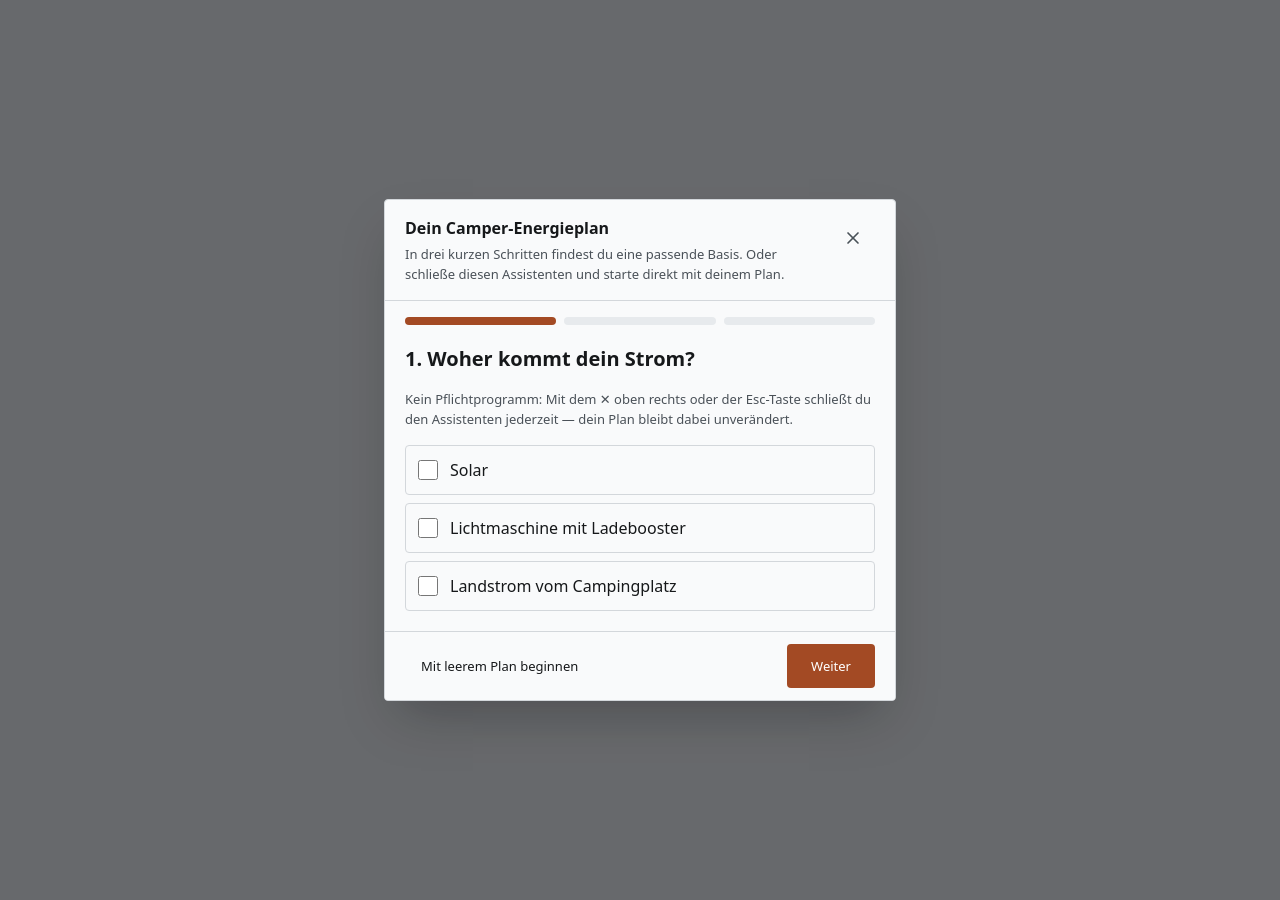
Test: OnboardingWizard (B-06, B-23, Nachtest) › zeigt in Schritt 2, dass nichts vorausgewählt ist
Click the button "Weiter": (831, 666) [787, 644, 875, 688]
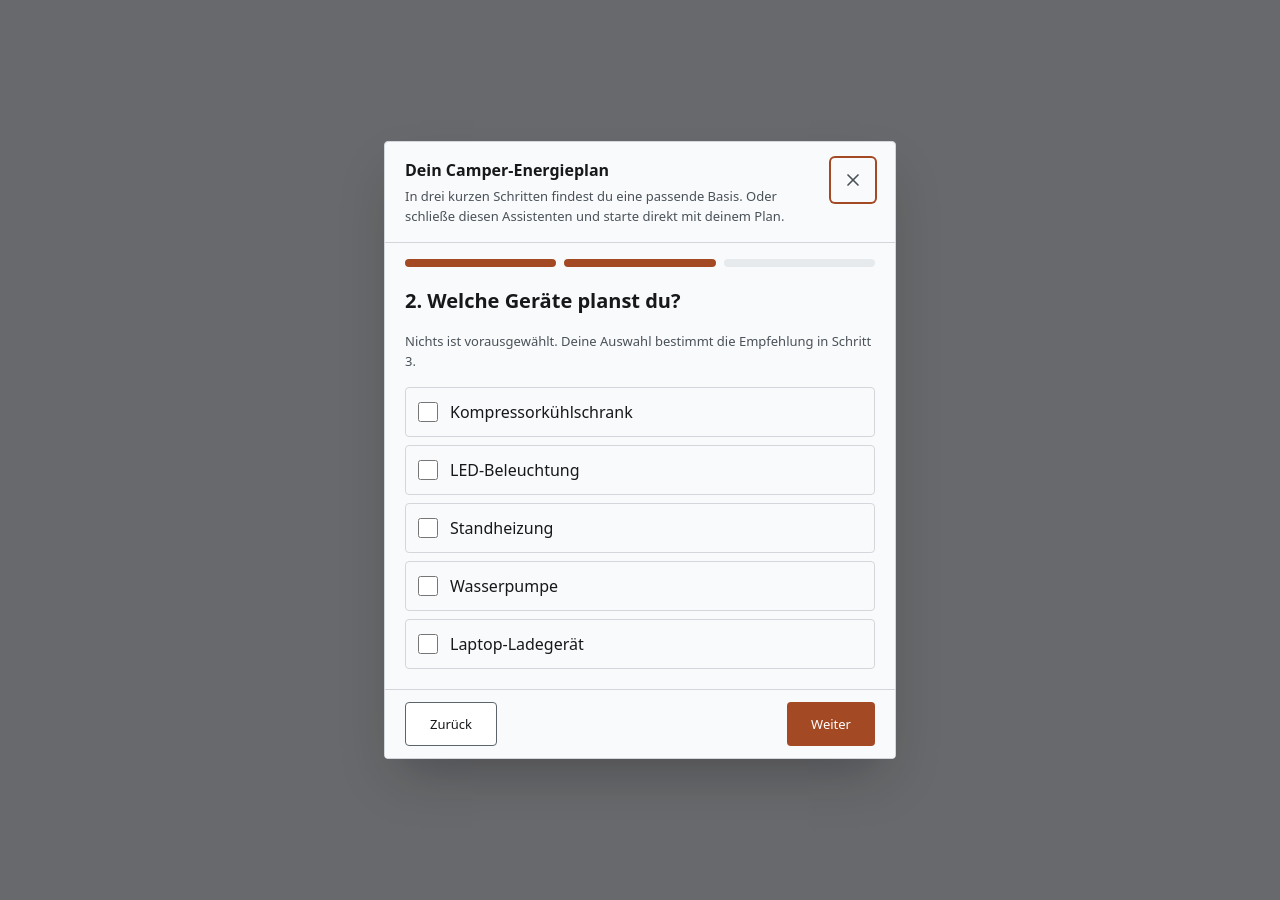
Expected: the checkbox labelled "Laptop-Ladegerät" is not checked, [418, 634, 438, 654]
Result: the text "Nichts ist vorausgewählt" is shown at [405, 332, 871, 370]
